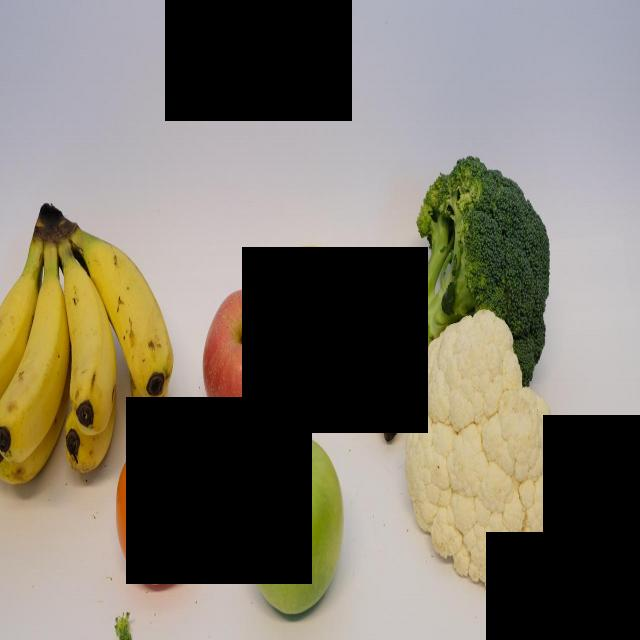apple: (242, 433, 345, 616), (202, 288, 292, 441)
banana: (256, 226, 406, 444), (84, 227, 175, 399), (0, 262, 66, 460), (54, 249, 119, 437)
broccoli: (405, 153, 551, 386)
cauliflower: (404, 308, 564, 598)
tomato: (116, 433, 203, 585)
